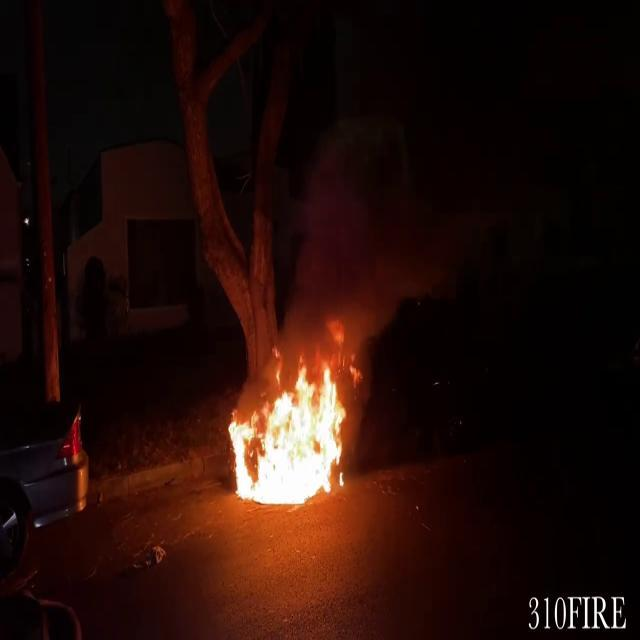Fire: (224, 346, 355, 512)
Smoke: (288, 130, 443, 352)
